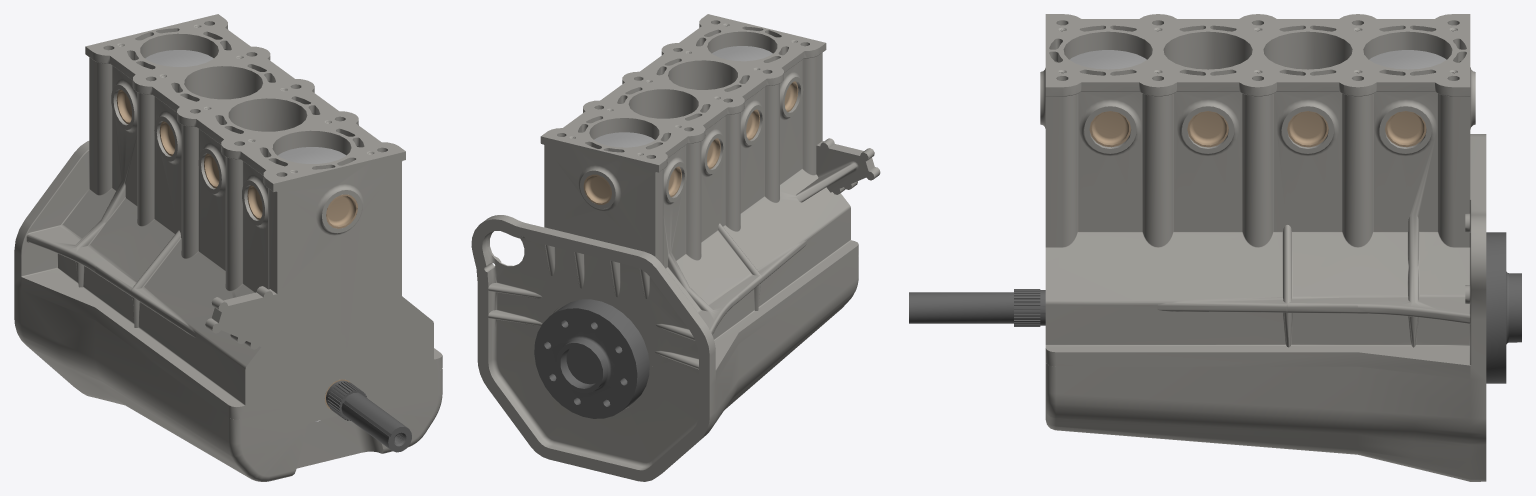
File: inline-4_engine.glb
3 renders of one model, left to right at view 1: azimuth 30°, elevation 25°; view 2: azimuth 150°, elevation 25°; view 3: azimuth 270°, elevation 25°, orthographic. The views are drawn at different scales.
Visible parts, largest first — view 1: Object_2, Object_5, Object_4, Object_6; view 2: Object_2, Object_5, Object_4, Object_6; view 3: Object_2, Object_5, Object_4, Object_6.
Boxes of the visible parts, left/top/right/bottom form: Object_2: left=14, top=14, right=442, bottom=481; Object_5: left=326, top=380, right=411, bottom=452; Object_4: left=116, top=89, right=357, bottom=409; Object_6: left=145, top=50, right=345, bottom=163; Object_2: left=471, top=14, right=880, bottom=481; Object_5: left=534, top=299, right=649, bottom=418; Object_4: left=583, top=81, right=798, bottom=204; Object_6: left=594, top=46, right=772, bottom=147; Object_2: left=1040, top=14, right=1486, bottom=481; Object_5: left=909, top=232, right=1521, bottom=383; Object_4: left=1089, top=111, right=1426, bottom=147; Object_6: left=1069, top=50, right=1446, bottom=69.
Bounding box in the file's own units: 333 × 420 × 583.
